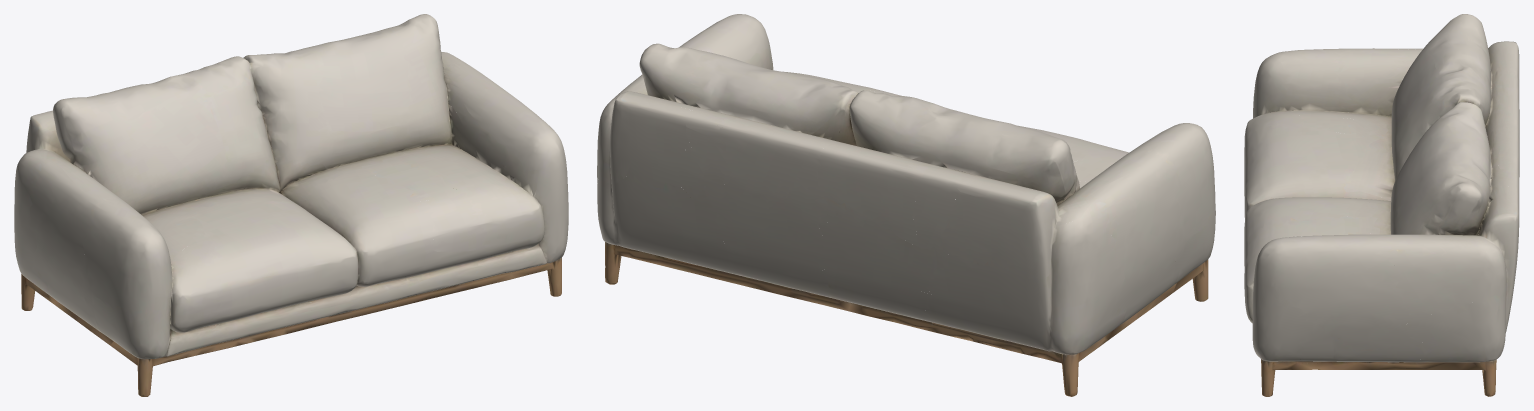
The model's file is sofa.glb.
The picture shows the model from 3 angles, left to right: view 1: azimuth 30°, elevation 25°; view 2: azimuth 150°, elevation 25°; view 3: azimuth 270°, elevation 25°; orthographic projection. The views are drawn at different scales.
Visible parts, largest first — view 1: tripo_node_a9e70089-f5f8-4fa1-aef0-00bed0709a2c; view 2: tripo_node_a9e70089-f5f8-4fa1-aef0-00bed0709a2c; view 3: tripo_node_a9e70089-f5f8-4fa1-aef0-00bed0709a2c.
Part boxes in pixels (x1,y1,x2,y2): tripo_node_a9e70089-f5f8-4fa1-aef0-00bed0709a2c: [14, 14, 568, 396]; tripo_node_a9e70089-f5f8-4fa1-aef0-00bed0709a2c: [597, 14, 1215, 396]; tripo_node_a9e70089-f5f8-4fa1-aef0-00bed0709a2c: [1244, 14, 1519, 396].
Size of the model in its own units: 1.6 by 0.7174 by 0.8848.
Materials: 1 (1 with a texture image).
